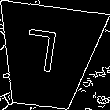L_S: (28, 30, 67, 84)
